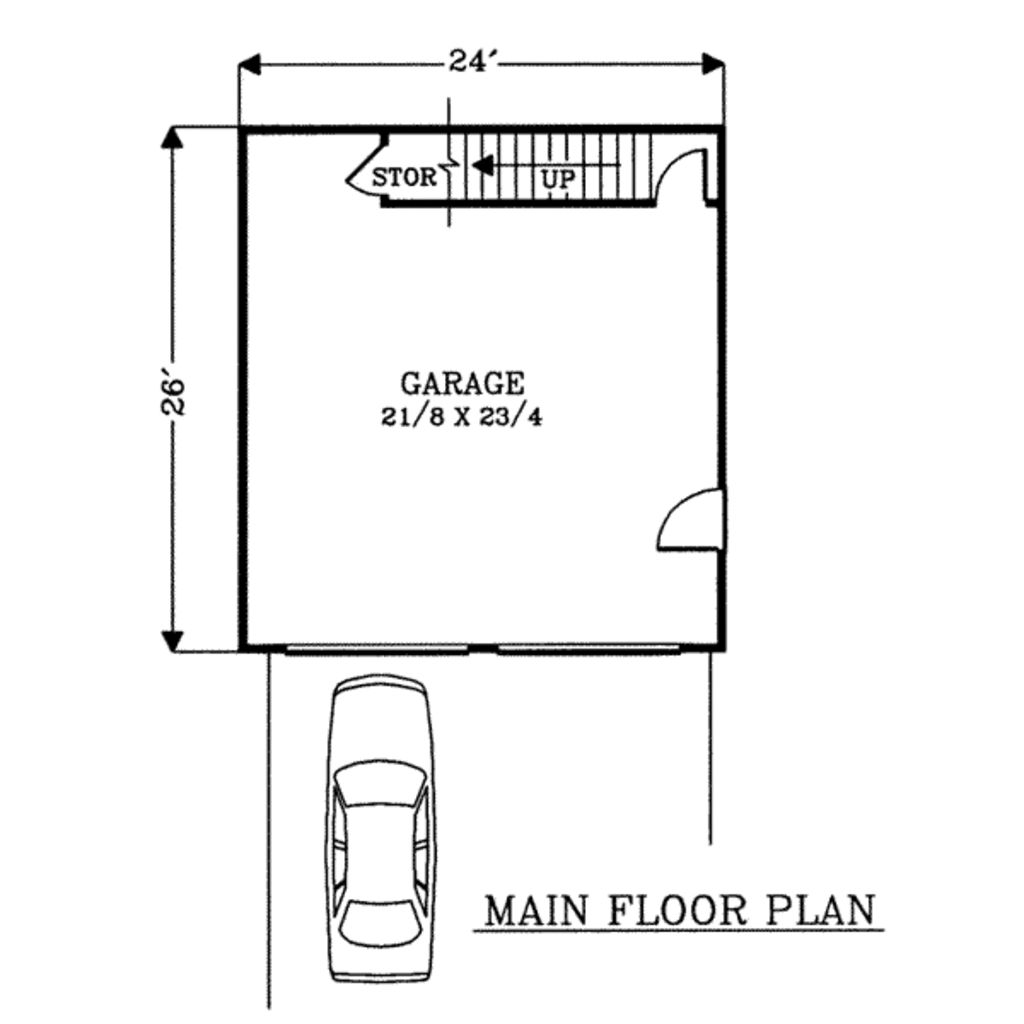door: (639, 480, 723, 558), (344, 135, 403, 197), (655, 146, 705, 203)
stairs: (413, 127, 648, 216)
window: (503, 636, 684, 657), (286, 635, 470, 653)
